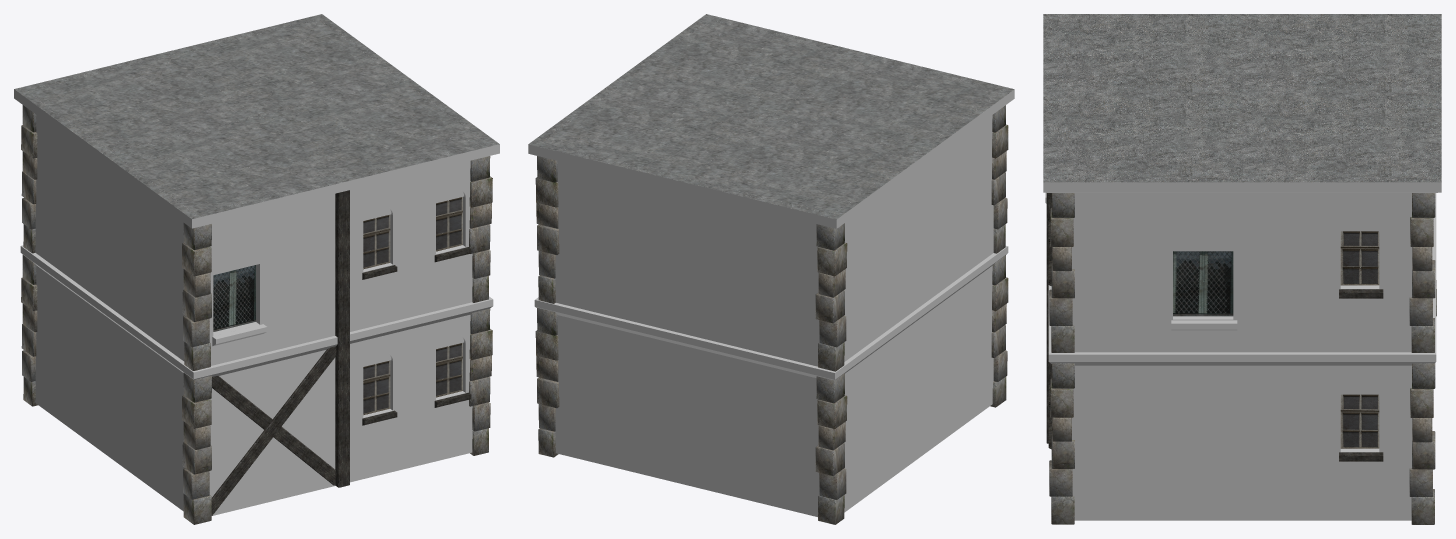
The model's file is Building_01.fbx.
3 renders of one model, left to right at view 1: azimuth 30°, elevation 25°; view 2: azimuth 150°, elevation 25°; view 3: azimuth 270°, elevation 25°, orthographic. The views are drawn at different scales.
Visible parts, largest first — view 1: Building_01; view 2: Building_01; view 3: Building_01.
Boxes of the visible parts, left/top/right/bottom form: Building_01: left=14, top=14, right=499, bottom=524; Building_01: left=528, top=14, right=1014, bottom=524; Building_01: left=1043, top=14, right=1441, bottom=524.
Bounding box in the file's own units: 528 × 508 × 528.
